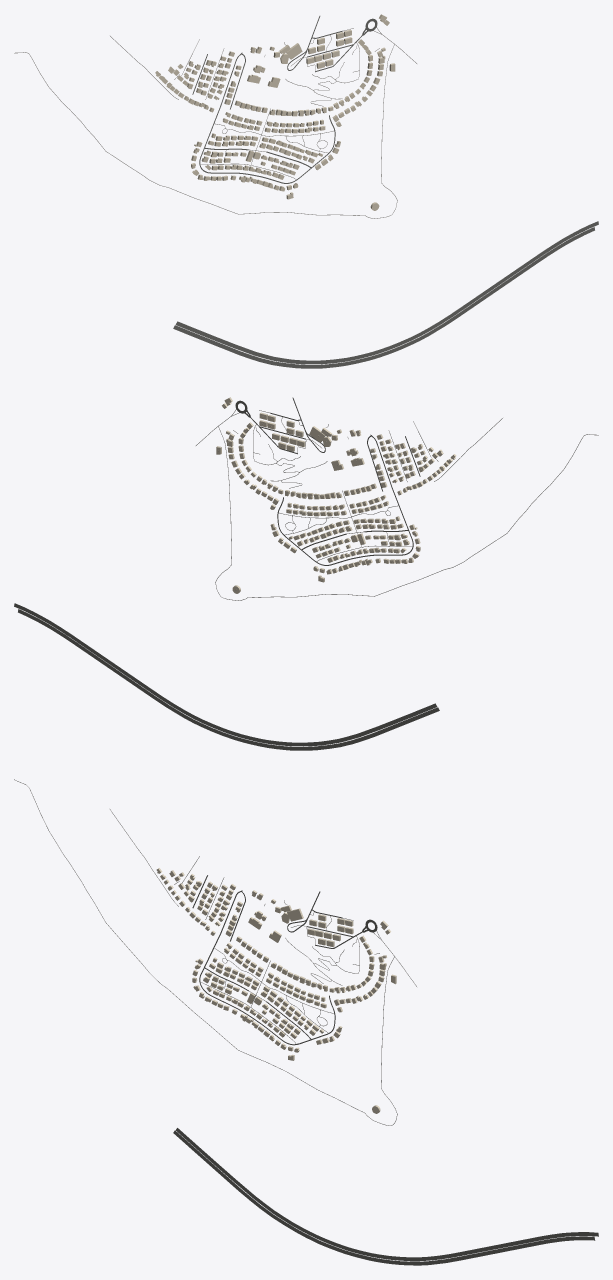
The model's file is historic-palestine-08_27_3503_3210.glb.
3 views of the same model, one above another, from view 1: azimuth 30°, elevation 25°; view 2: azimuth 150°, elevation 25°; view 3: azimuth 330°, elevation 25° (orthographic).
Visible parts, largest first — view 1: Road חוצה שומרון.001, Road חוצה שומרון, Road כביש ביטחון - אלקנה; view 2: Road חוצה שומרון.001, Road חוצה שומרון, Road כביש ביטחון - אלקנה; view 3: Road חוצה שומרון, Road חוצה שומרון.001, Road כביש ביטחון - אלקנה.
Boxes of the visible parts, x1,y1,x2,y2 form: Road חוצה שומרון.001: [175, 221, 598, 364]; Road חוצה שומרון: [173, 227, 594, 368]; Road כביש ביטחון - אלקנה: [14, 44, 397, 218]; Road חוצה שומרון.001: [14, 603, 437, 746]; Road חוצה שומרון: [18, 609, 439, 750]; Road כביש ביטחון - אלקנה: [215, 426, 598, 600]; Road חוצה שומרון: [173, 1130, 595, 1265]; Road חוצה שומרון.001: [175, 1128, 598, 1261]; Road כביש ביטחון - אלקנה: [14, 779, 397, 1125].
Bounding box in the file's own units: 1961 × 1263 × 8.7.
